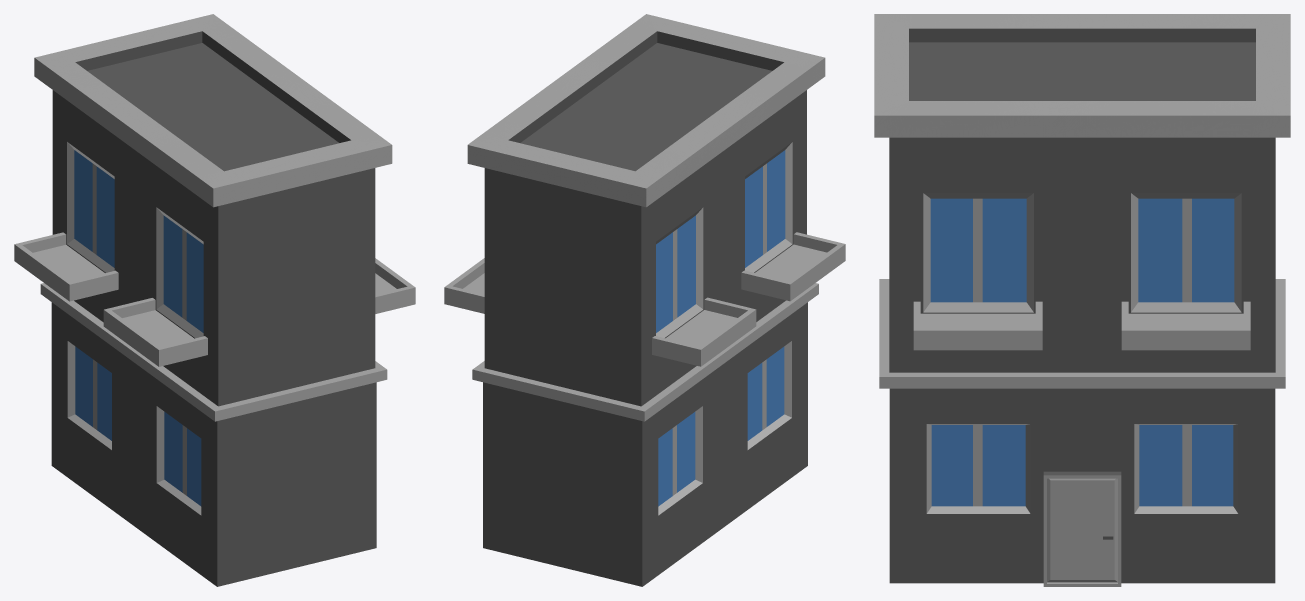
File: GREY BUILDING2.001_Material.005.glb
The picture shows the model from 3 angles, left to right: view 1: azimuth 30°, elevation 25°; view 2: azimuth 150°, elevation 25°; view 3: azimuth 270°, elevation 25°; orthographic projection. The views are drawn at different scales.
Parts seen in each view (by area): view 1: GREY BUILDING2.001_Material.005_0; view 2: GREY BUILDING2.001_Material.005_0; view 3: GREY BUILDING2.001_Material.005_0.
Boxes of the visible parts, bbox=[...] form: GREY BUILDING2.001_Material.005_0: bbox=[14, 14, 415, 586]; GREY BUILDING2.001_Material.005_0: bbox=[444, 14, 845, 586]; GREY BUILDING2.001_Material.005_0: bbox=[874, 14, 1290, 586].
Bounding box in the file's own units: 1.79 × 2.71 × 2.17.
1 material, 1 textured.
